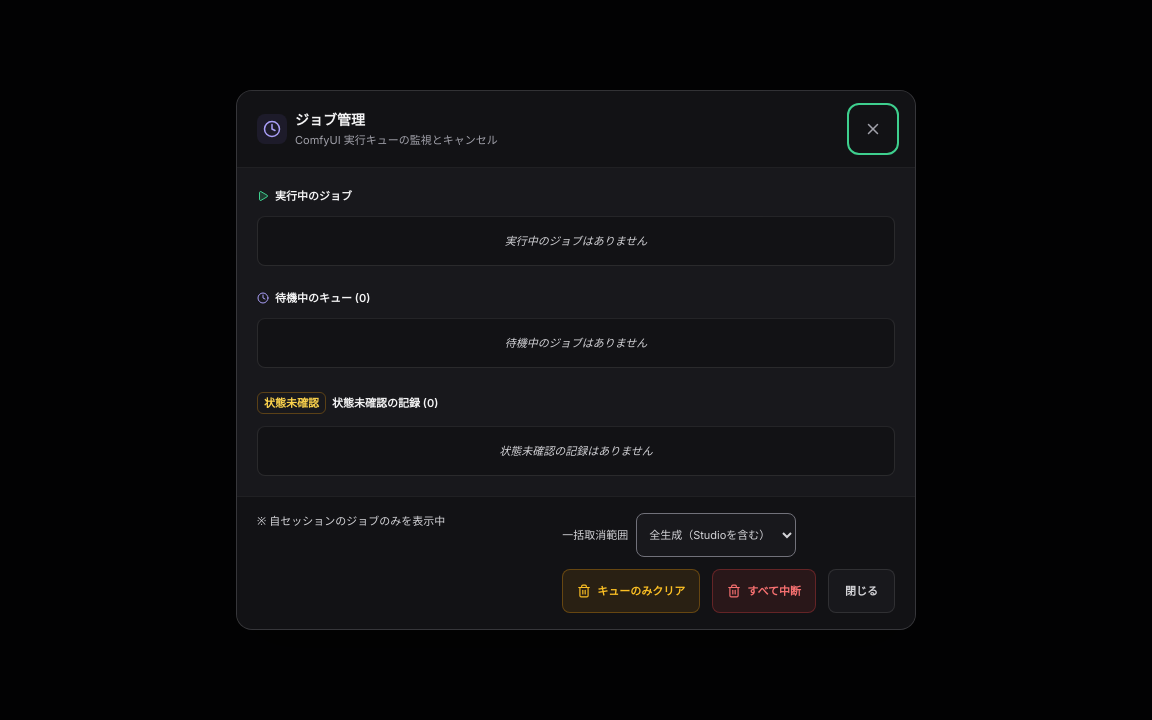
Test: JobManagementModal › defaults bulk scope to all and confirms before global queued clear even while own-session filter is on
Expected: the dropdown labelled "一括取消範囲" shows "全生成（Studioを含む）", top-left (636, 513), bottom-right (796, 557)
What coordinates should you click on to do the following:
click the button "キューのみクリア"
I would click on:
 (631, 591)
Its box is top-left (562, 569), bottom-right (700, 613).
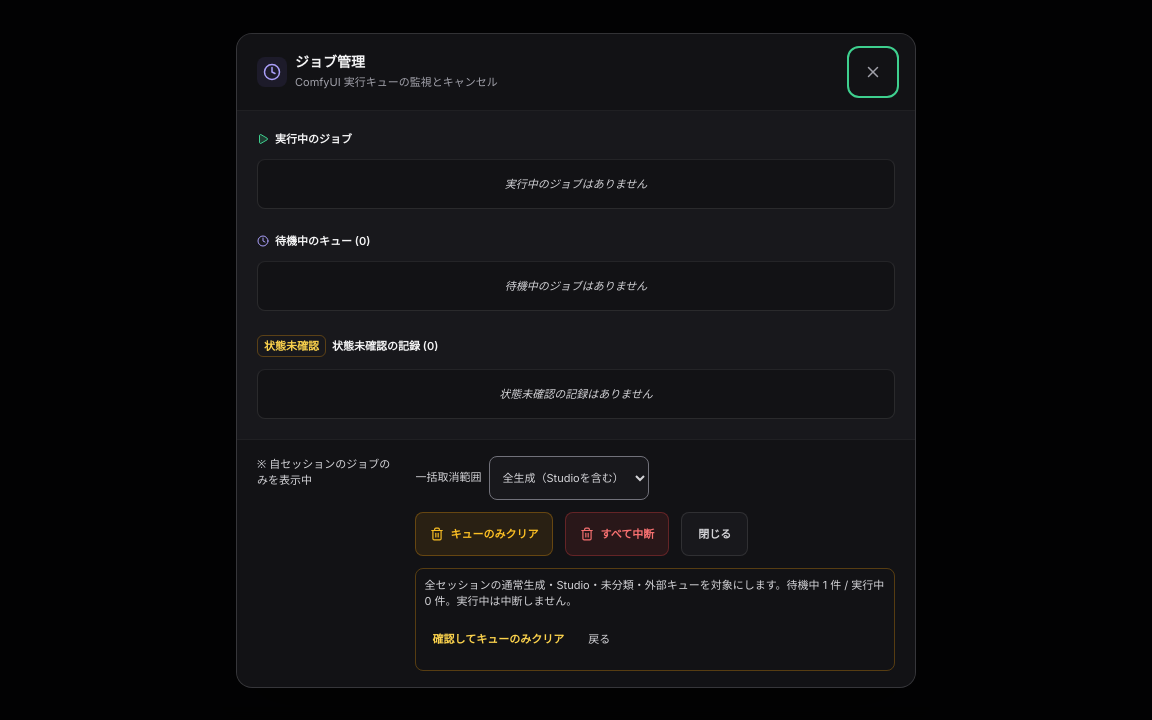
What coordinates should you click on to do the following:
click the button "確認してキューのみクリア"
I would click on:
 (498, 640)
Its box is top-left (424, 618), bottom-right (572, 662).
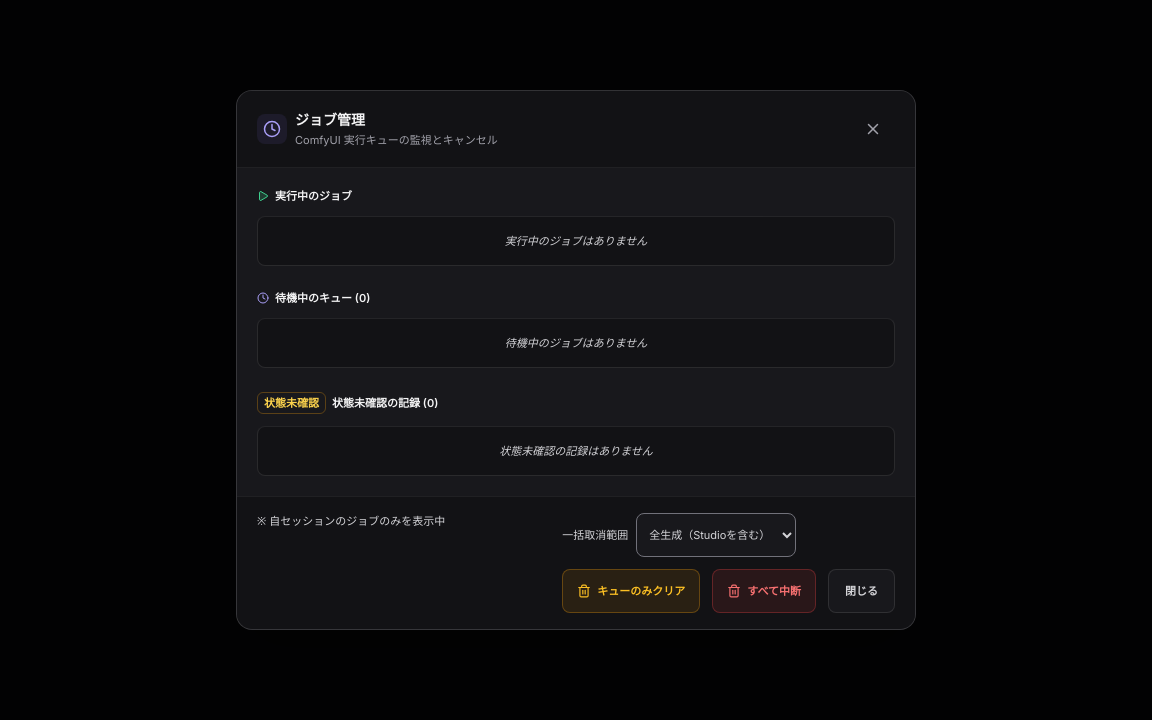
Expected: the dialog "取消確認" is gone
